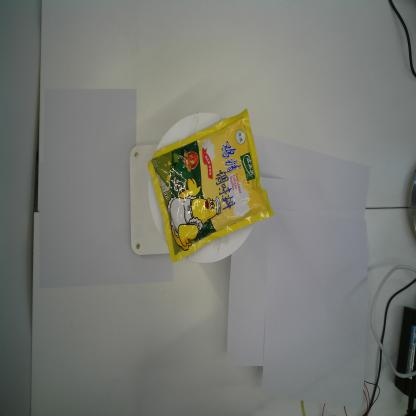Seasoner: (147, 108, 275, 264)
